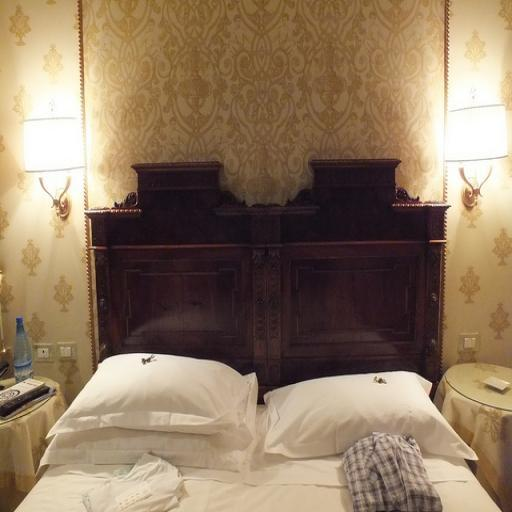bed: (38, 216, 504, 512)
